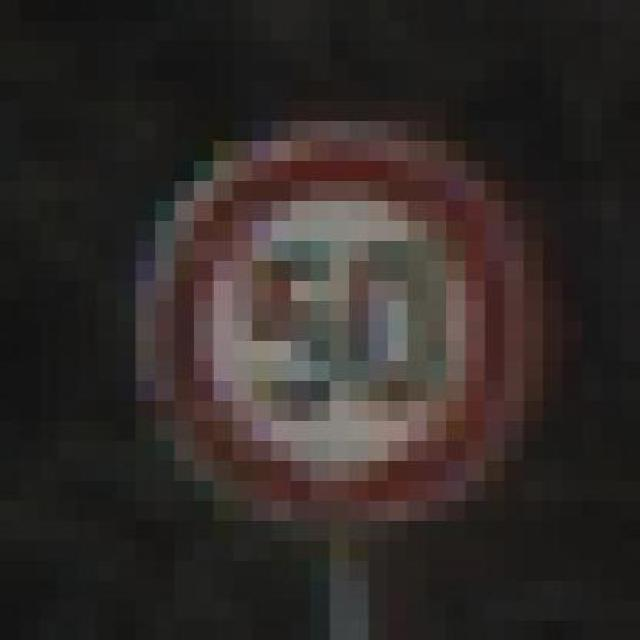50 mph speed limit: (97, 100, 563, 540)
